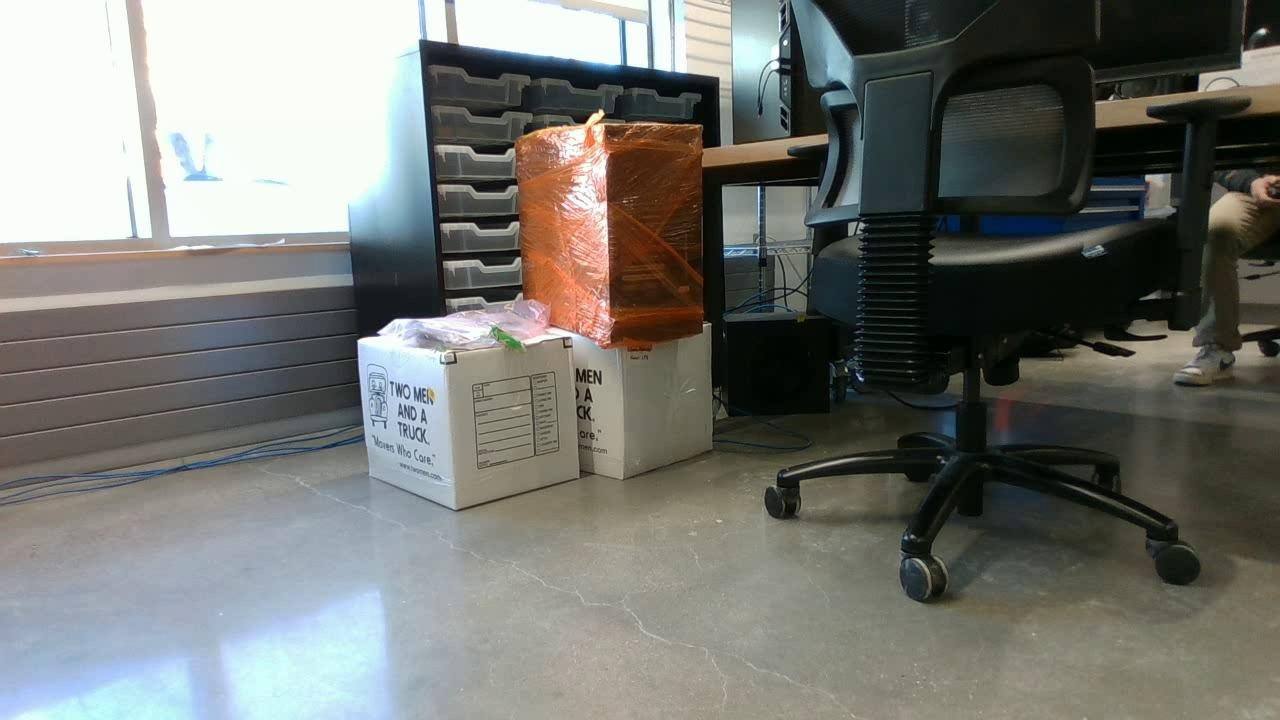grasshopper: (484, 324, 523, 353)
